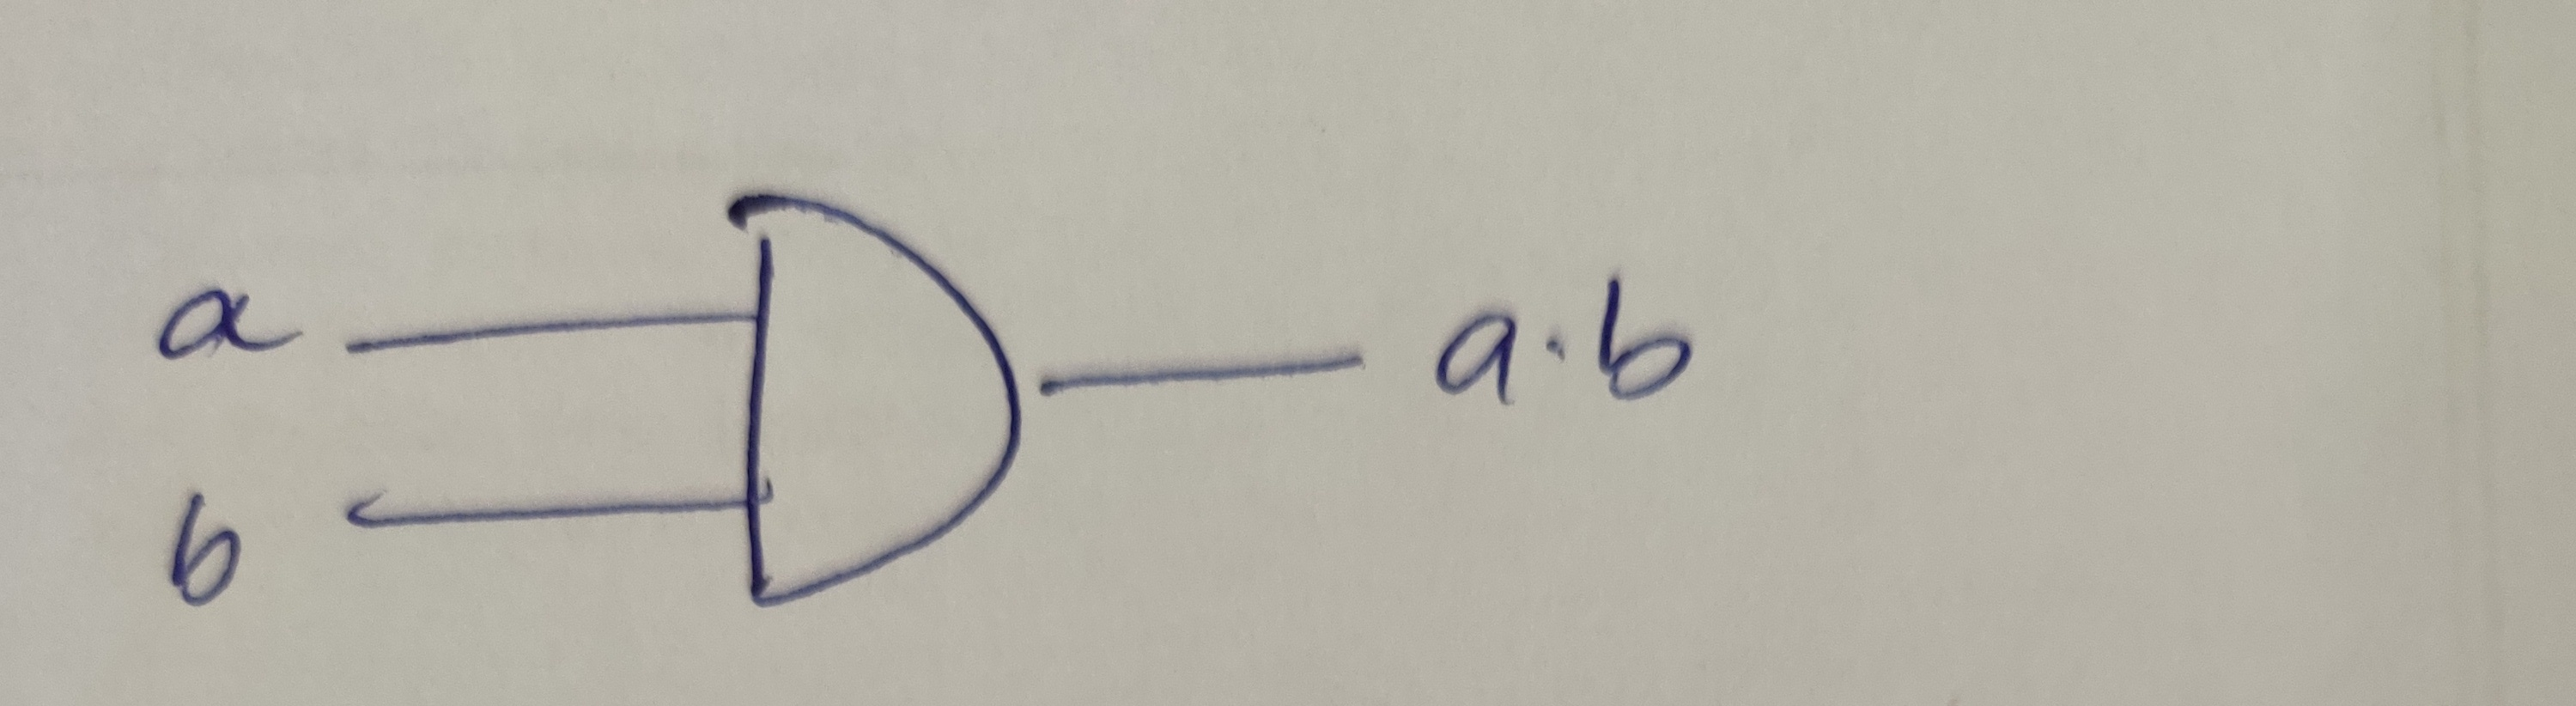and: (660, 169, 1065, 658)
